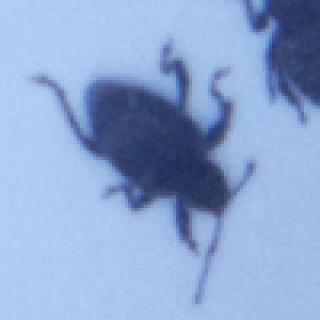bvw: (30, 39, 256, 304)
